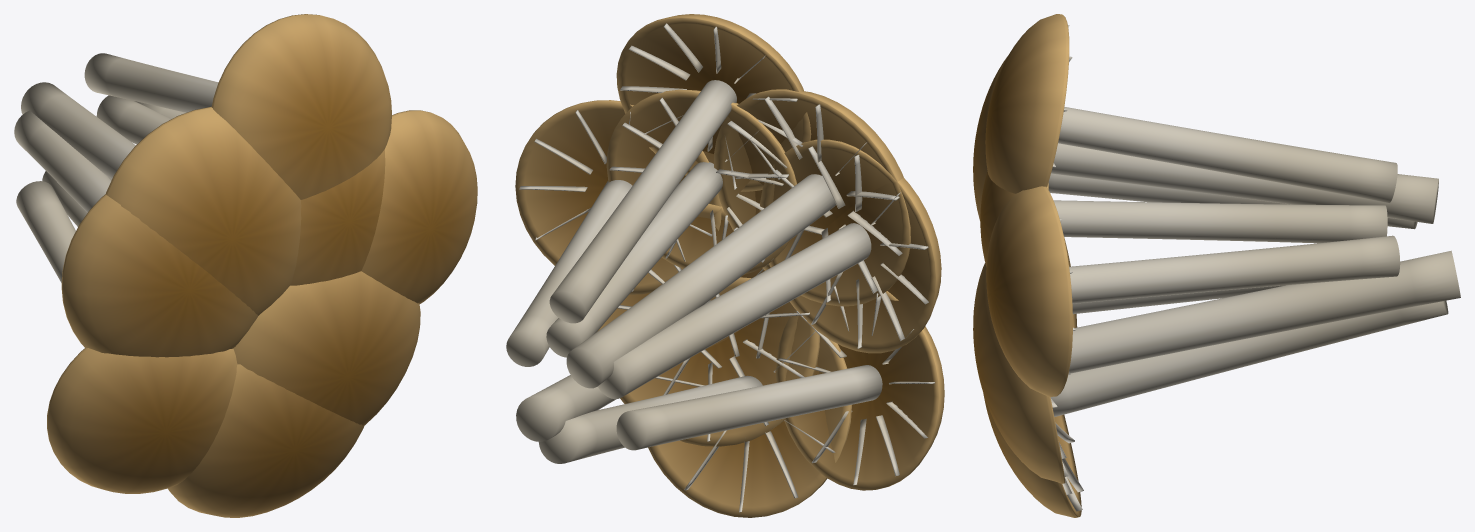
Rendered from pholiota-nameko.glb.
The picture shows the model from 3 angles, left to right: view 1: azimuth 30°, elevation 25°; view 2: azimuth 150°, elevation 25°; view 3: azimuth 270°, elevation 25°; orthographic projection. The views are drawn at different scales.
Parts seen in each view (by area): view 1: pileus_cap, stipe_stem; view 2: pileus_cap, stipe_stem, lamellae_gills; view 3: stipe_stem, pileus_cap, lamellae_gills.
Part boxes in pixels (x1,y1,x2,y2): pileus_cap: (47,14,477,517); stipe_stem: (14,53,218,282); pileus_cap: (515,14,944,517); stipe_stem: (506,80,882,463); lamellae_gills: (519,23,934,512); stipe_stem: (1048,107,1460,416); pileus_cap: (973,14,1081,517); lamellae_gills: (1051,25,1083,511).
Size of the model in its own units: 3.85 by 4.22 by 3.76.
